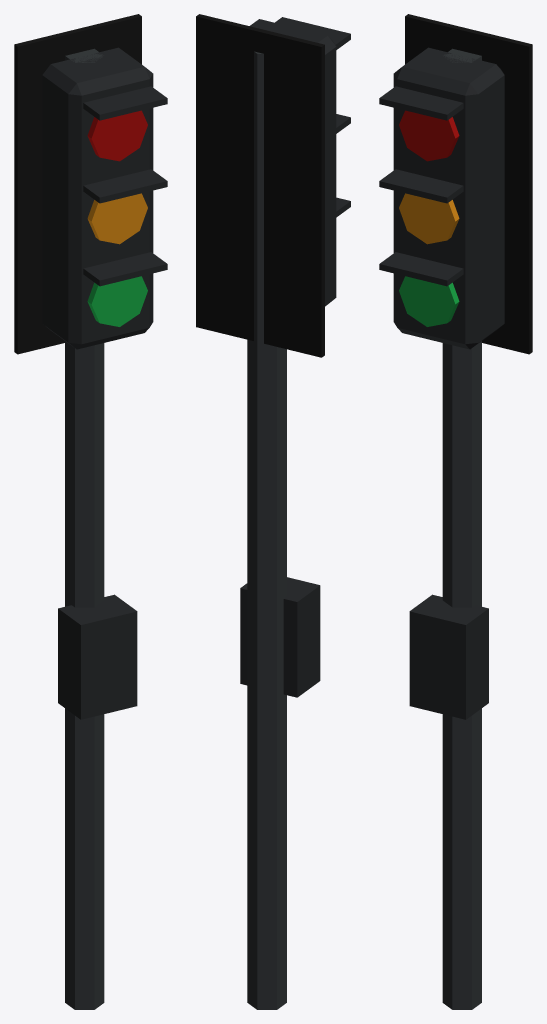
File: feu_tricolore.glb
3 views of the same model, side by side, from view 1: azimuth 30°, elevation 25°; view 2: azimuth 150°, elevation 25°; view 3: azimuth 330°, elevation 25° (orthographic).
Visible parts, largest first — view 1: feu_tricolore; view 2: feu_tricolore; view 3: feu_tricolore.
Boxes of the visible parts, x1,y1,x2,y2 form: feu_tricolore: [14, 14, 167, 1009]; feu_tricolore: [196, 14, 350, 1009]; feu_tricolore: [379, 14, 532, 1009].
Bounding box in the file's own units: 0.44 × 3.27 × 0.36.
